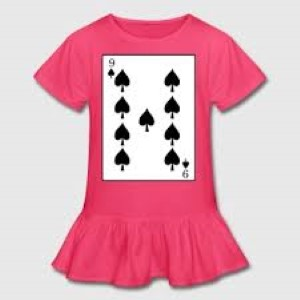NineOfSpades: (93, 47, 198, 184)
